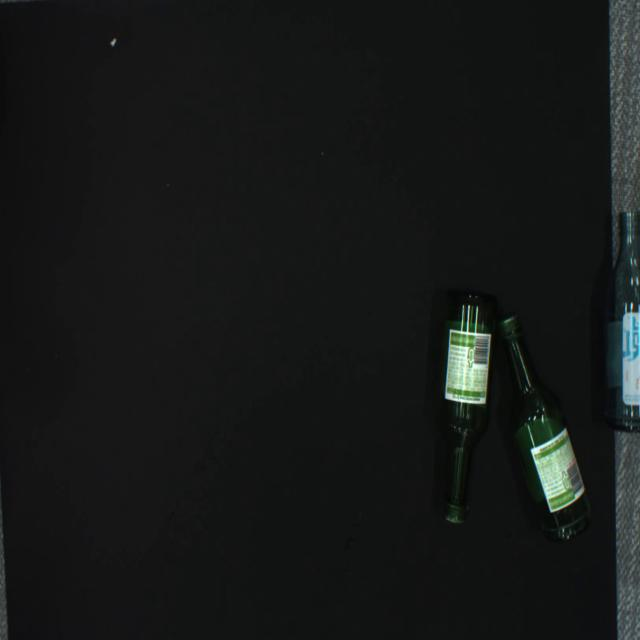soju-bottle: (499, 315, 591, 542), (437, 289, 497, 522), (603, 211, 640, 433)
